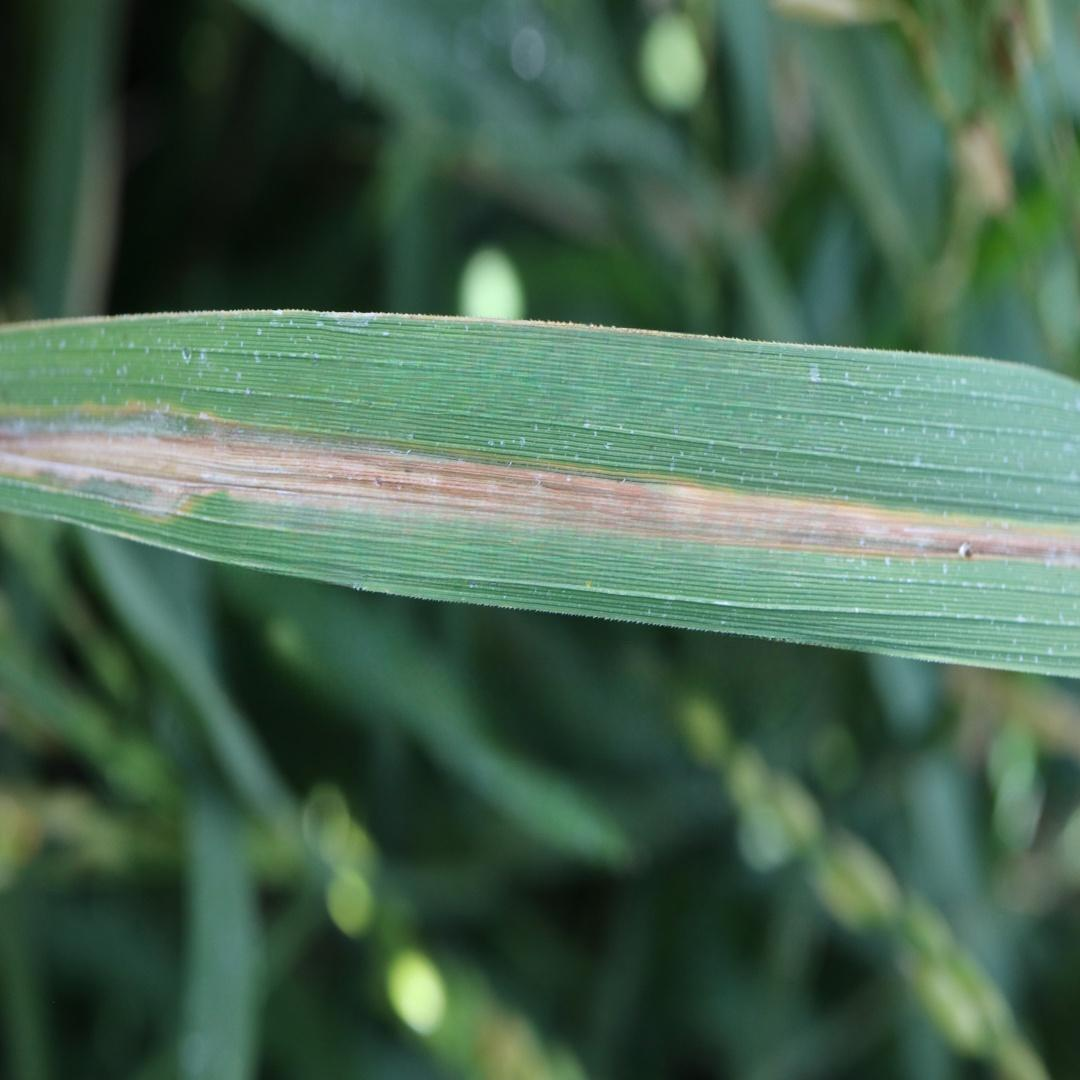BLB: (0, 429, 1079, 566)
LEAF: (0, 311, 1079, 676)
